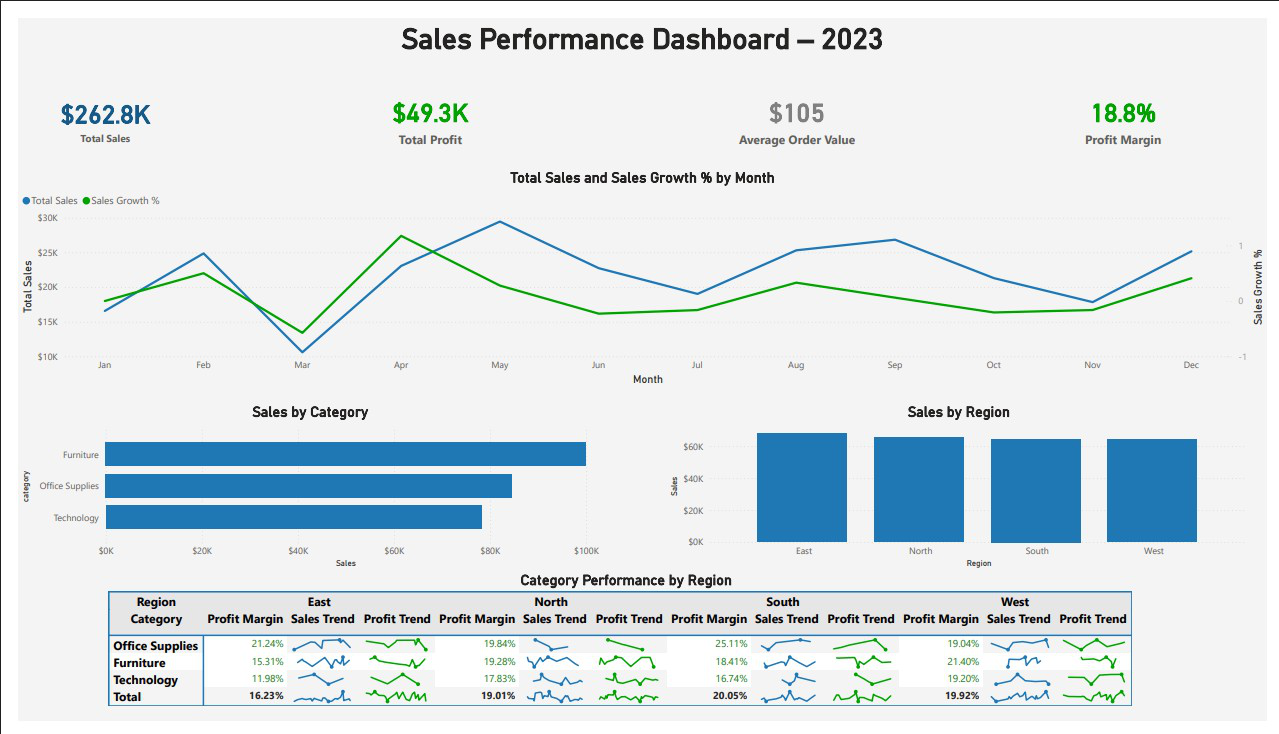

The dashboard page shown, as its layout file describes it:
{"tool":"powerbi","page":{"name":"Page 1","canvas":[1664,936],"ordinal":0},"visuals":[{"type":"card","title":"Total Sales","fields":{"Values":["cleaned_sales_data.Total Sales"]},"box":[0,79,233.5,110.3],"z":0},{"type":"card","fields":{"Values":["cleaned_sales_data.Total Profit"]},"box":[433.4,78.5,232.5,110.2],"z":1000},{"type":"card","fields":{"Values":["cleaned_sales_data.Profit Margin"]},"box":[1356,78.5,232.5,110.2],"z":2000},{"type":"card","fields":{"Values":["cleaned_sales_data.Average Order Value"]},"box":[899.9,78.5,276.3,110.2],"z":3000},{"type":"lineChart","fields":{"Category":["Date.Date Hierarchy.Month"],"Y":["cleaned_sales_data.Total Sales"],"Y2":["cleaned_sales_data.Sales Growth %"]},"box":[0,200.8,1664,292.9],"z":4000},{"type":"barChart","title":"Sales by Category","fields":{"Category":["cleaned_sales_data.category","cleaned_sales_data.subcategory"],"Y":["cleaned_sales_data.Total Sales"]},"box":[0,513.4,779.2,223.5],"z":5000},{"type":"columnChart","title":"Sales by Region","fields":{"Category":["cleaned_sales_data.region","cleaned_sales_data.subcategory"],"Y":["cleaned_sales_data.Total Sales"]},"box":[863.7,513.4,779,223.5],"z":6000},{"type":"textbox","box":[0,0,1664,78.5],"z":7000},{"type":"pivotTable","title":"Category Performance by Region","fields":{"Rows":["cleaned_sales_data.category"],"Columns":["cleaned_sales_data.region"],"Values":["cleaned_sales_data.Profit Margin","SparklineData(Sum(cleaned_sales_data.sales)_[Date.Date])","SparklineData(Sum(cleaned_sales_data.profit)_[Date.Date])"]},"box":[116.3,736.9,1389.2,190.3],"z":8000}]}

Visuals, with their boxes in screenshot pixels (x1, y1, x2, y2), scaled from the page's 1664x936 canvas onto the 1279x734 screenshot:
"Total Sales" card: box(0, 62, 179, 148)
card - cleaned_sales_data.Total Profit: box(333, 62, 512, 148)
card - cleaned_sales_data.Profit Margin: box(1042, 62, 1221, 148)
card - cleaned_sales_data.Average Order Value: box(692, 62, 904, 148)
lineChart - Date.Date Hierarchy.Month x cleaned_sales_data.Total Sales: box(0, 157, 1278, 387)
"Sales by Category" barChart: box(0, 403, 599, 578)
"Sales by Region" columnChart: box(664, 403, 1263, 578)
textbox: box(0, 0, 1278, 62)
"Category Performance by Region" pivotTable: box(89, 578, 1157, 727)
